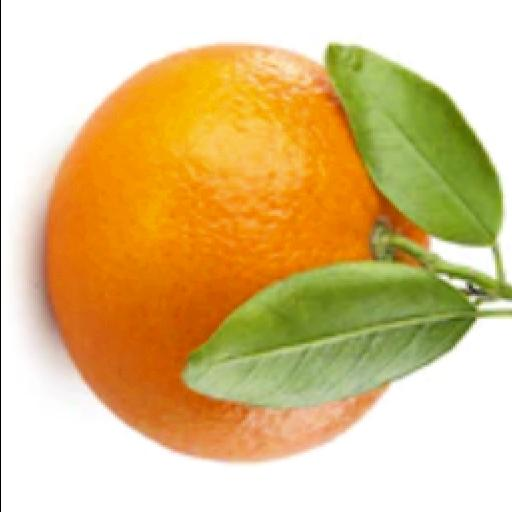orange: (47, 45, 424, 459)
